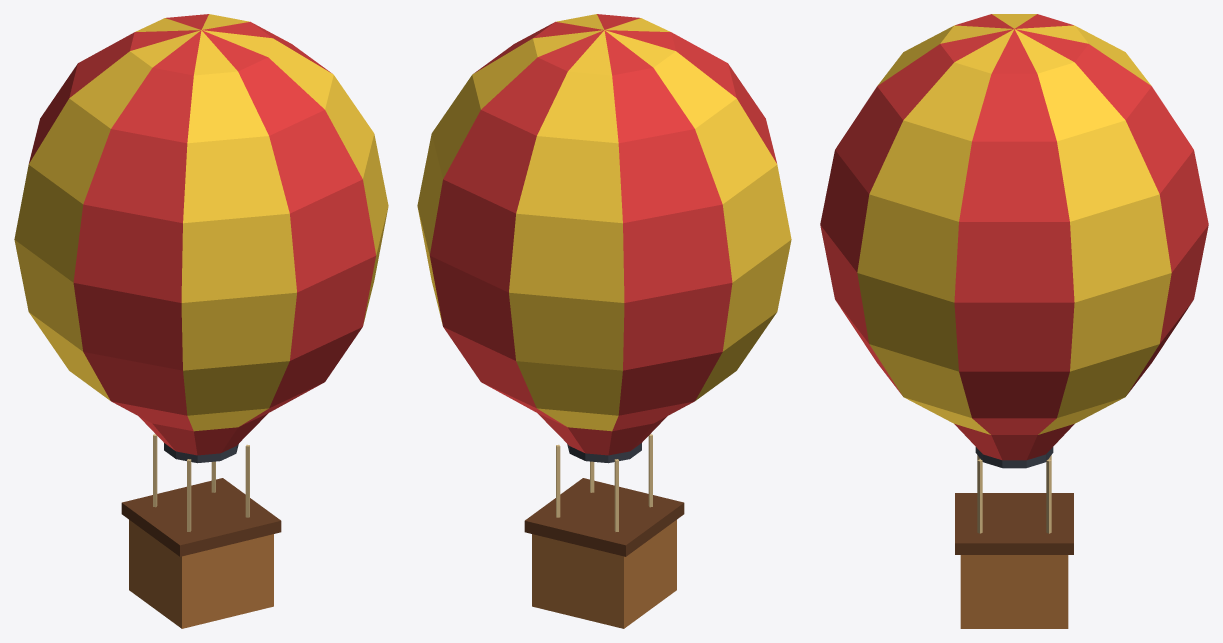
File: HotAirBalloon.fbx
3 renders of one model, left to right at view 1: azimuth 30°, elevation 25°; view 2: azimuth 150°, elevation 25°; view 3: azimuth 270°, elevation 25°, orthographic.
Parts seen in each view (by area): view 1: Hot Air Balloon; view 2: Hot Air Balloon; view 3: Hot Air Balloon.
Part boxes in pixels (<box>): Hot Air Balloon: <box>14,14,388,628</box>; Hot Air Balloon: <box>417,14,791,628</box>; Hot Air Balloon: <box>820,14,1208,628</box>.
Size of the model in its own units: 5.14 by 8.85 by 5.4.
1 material, 1 textured.
